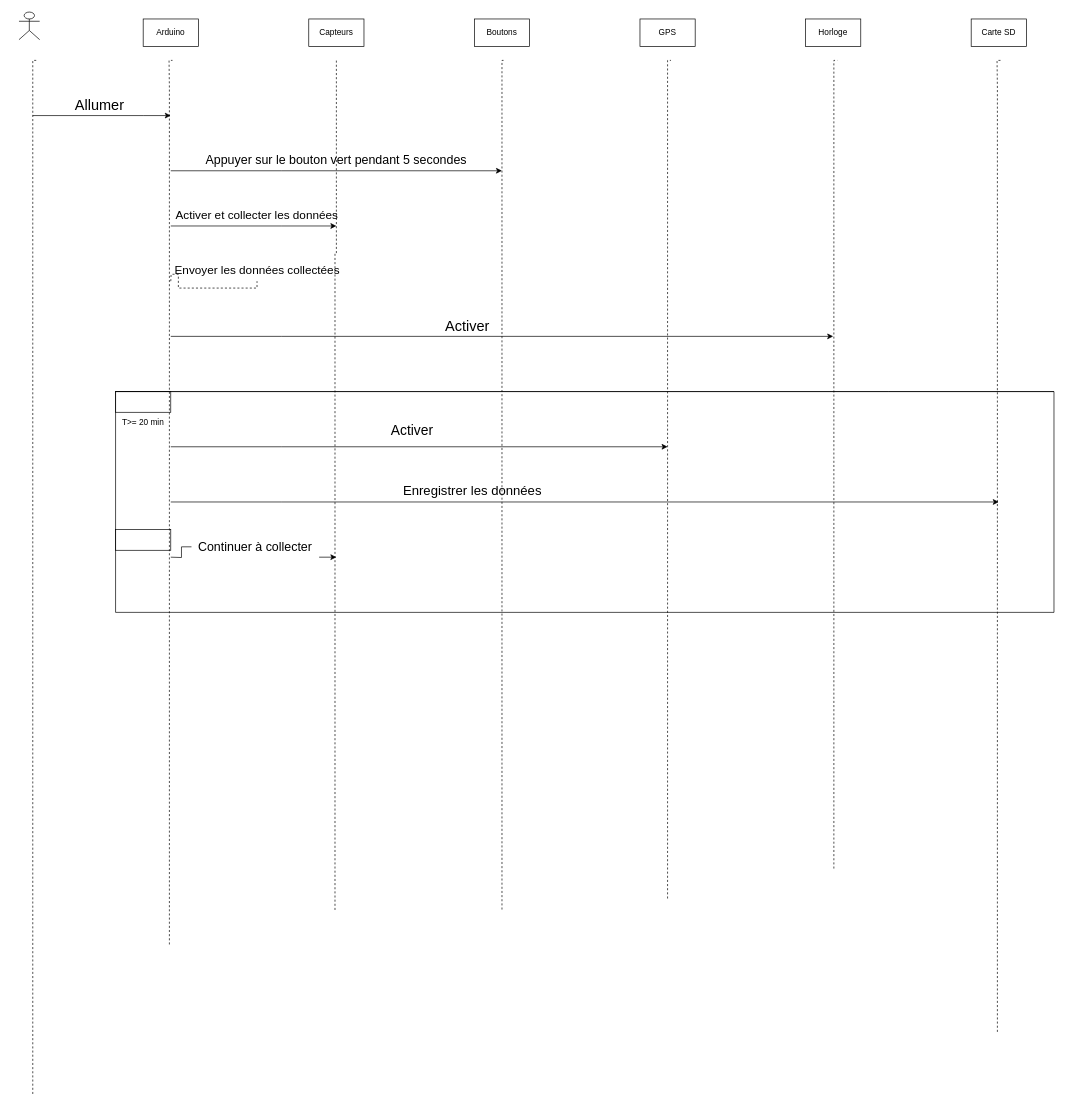
The diagram is 1067 pixels wide and 1107 high, and some of its shapes have lost their labels. Each missing label, with the centre of its shape:
Alt: the point at 143,401
Sinon: the point at 143,539
utilisateur: the point at 29,25
